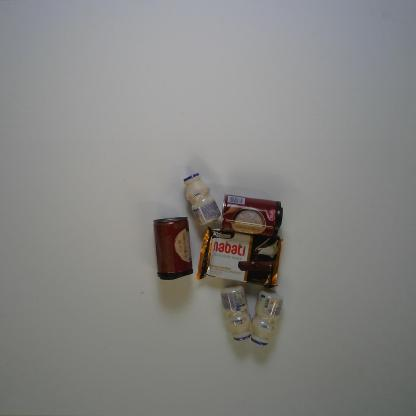Canned Food: (220, 193, 284, 238), (152, 216, 194, 281)
Dessert: (194, 226, 284, 289)
Milk: (182, 172, 222, 226), (250, 289, 284, 346), (219, 285, 252, 341)
